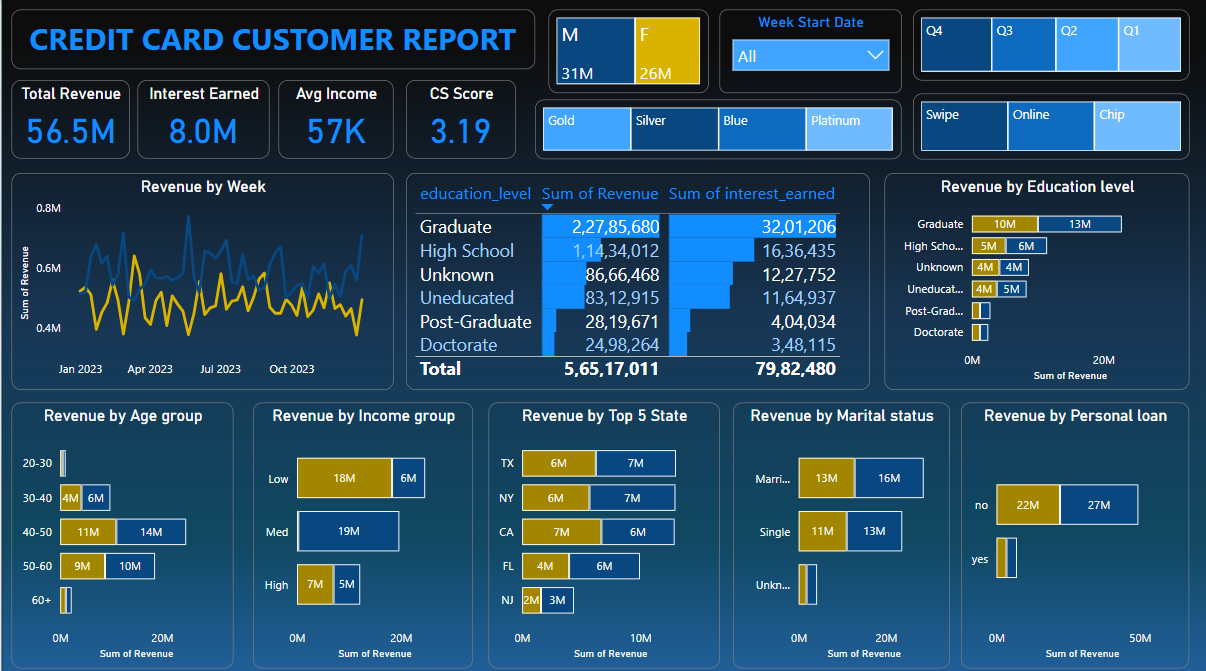

This screenshot's page, from the dashboard's own definition file:
{"tool":"powerbi","page":{"name":"CC Customer","canvas":[1280,720],"ordinal":1},"visuals":[{"type":"barChart","title":"Revenue by Income group","fields":{"Category":["public cust_detail.Income_group"],"Y":["Sum(public cc_details.Revenue)"],"Series":["public cust_detail.gender"]},"box":[266.7,428.3,233.3,281.7],"z":0},{"type":"tableEx","fields":{"Values":["public cust_detail.education_level","Sum(public cc_details.Revenue)","Sum(public cc_details.interest_earned)"]},"box":[430,185,491.7,230],"z":1000},{"type":"textbox","box":[11.7,11.7,555,63.3],"z":2000},{"type":"slicer","title":"Week Start Date","fields":{"Values":["public cc_details.week_start_date"]},"box":[761.7,11.7,193.3,88.3],"z":3000},{"type":"treemap","fields":{"Group":["public cc_details.qtr"],"Values":["Avg(public cc_details.client_num)"]},"box":[966.7,11.7,293.3,75],"z":4000},{"type":"treemap","fields":{"Group":["public cust_detail.gender"],"Values":["Sum(public cc_details.Revenue)"]},"box":[580,11.7,170,88.3],"z":5000},{"type":"treemap","fields":{"Group":["public cc_details.use_chip"],"Values":["Avg(public cc_details.client_num)"]},"box":[966.7,100,293.3,70],"z":6000},{"type":"treemap","fields":{"Group":["public cc_details.card_category"],"Values":["Avg(public cc_details.client_num)"]},"box":[566.7,106.7,388.3,63.3],"z":7000},{"type":"card","title":"Total Revenue","fields":{"Values":["Sum(public cc_details.Revenue)"]},"box":[11.7,86.7,125,83.3],"z":8000},{"type":"card","title":"CS Score","fields":{"Values":["Avg(public cust_detail.cust_satisfaction_score)"]},"box":[430,86.7,116.7,83.3],"z":9000},{"type":"card","title":"Avg Income","fields":{"Values":["Avg(public cust_detail.income)"]},"box":[295,86.7,121.7,83.3],"z":10000},{"type":"card","title":"Interest Earned","fields":{"Values":["Sum(public cc_details.interest_earned)"]},"box":[145,86.7,140,83.3],"z":11000},{"type":"lineChart","title":"Revenue by Week","fields":{"Y":["Sum(public cc_details.Revenue)"],"Series":["public cust_detail.gender"],"Category":["public cc_details.week_start_date.Variation.Date Hierarchy.Year","public cc_details.week_start_date.Variation.Date Hierarchy.Month","public cc_details.week_start_date.Variation.Date Hierarchy.Day"]},"box":[11.7,185,405,230],"z":12000},{"type":"barChart","title":"Revenue by Age group","fields":{"Category":["public cust_detail.Age_group"],"Y":["Sum(public cc_details.Revenue)"],"Series":["public cust_detail.gender"]},"box":[11.7,428.3,235,281.7],"z":13000},{"type":"barChart","title":"Revenue by Education level","fields":{"Category":["public cust_detail.education_level"],"Y":["Sum(public cc_details.Revenue)"],"Series":["public cust_detail.gender"]},"box":[936.7,185,323.3,230],"z":14000},{"type":"barChart","title":"Revenue by Marital status","fields":{"Category":["public cust_detail.marital_status"],"Y":["Sum(public cc_details.Revenue)"],"Series":["public cust_detail.gender"]},"box":[776.7,428.3,230,281.7],"z":15000},{"type":"barChart","title":"Revenue by Personal loan","fields":{"Category":["public cust_detail.personal_loan"],"Y":["Sum(public cc_details.Revenue)"],"Series":["public cust_detail.gender"]},"box":[1018.3,428.3,241.7,281.7],"z":16000},{"type":"barChart","title":"Revenue by Top 5 State","fields":{"Category":["public cust_detail.state_cd"],"Y":["Sum(public cc_details.Revenue)"],"Series":["public cust_detail.gender"]},"box":[516.7,428.3,245,281.7],"z":17000}]}

Visuals, with their boxes in screenshot pixels (x1, y1, x2, y2), scaled from the page's 1280x720 canvas onto the 1206x671 screenshot:
"Revenue by Income group" barChart: 251,399,471,662
tableEx - public cust_detail.education_level x Sum(public cc_details.Revenue): 405,172,868,387
textbox: 11,11,534,70
"Week Start Date" slicer: 718,11,900,93
treemap - public cc_details.qtr x Avg(public cc_details.client_num): 911,11,1187,81
treemap - public cust_detail.gender x Sum(public cc_details.Revenue): 546,11,707,93
treemap - public cc_details.use_chip x Avg(public cc_details.client_num): 911,93,1187,158
treemap - public cc_details.card_category x Avg(public cc_details.client_num): 534,99,900,158
"Total Revenue" card: 11,81,129,158
"CS Score" card: 405,81,515,158
"Avg Income" card: 278,81,393,158
"Interest Earned" card: 137,81,269,158
"Revenue by Week" lineChart: 11,172,393,387
"Revenue by Age group" barChart: 11,399,232,662
"Revenue by Education level" barChart: 883,172,1187,387
"Revenue by Marital status" barChart: 732,399,949,662
"Revenue by Personal loan" barChart: 959,399,1187,662
"Revenue by Top 5 State" barChart: 487,399,718,662
